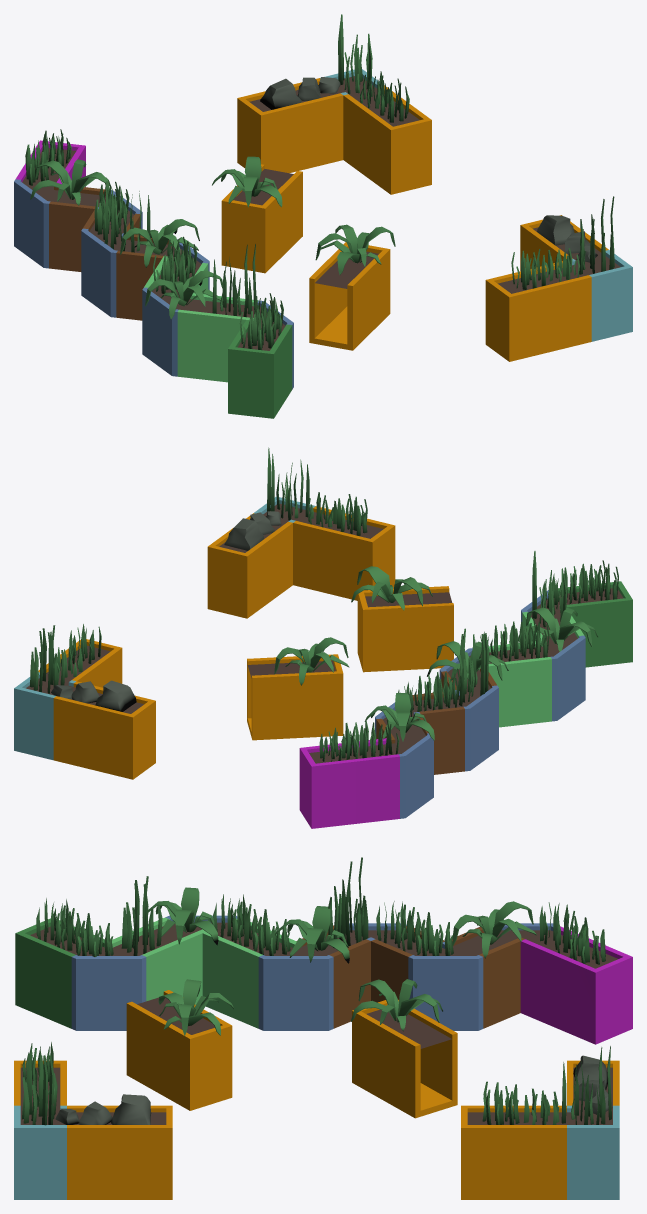
The picture shows the model from 3 angles, top to bottom: view 1: azimuth 30°, elevation 25°; view 2: azimuth 150°, elevation 25°; view 3: azimuth 270°, elevation 25°; orthographic projection. The views are drawn at different scales.
Visible parts, largest first — view 1: SM_414; view 2: SM_414; view 3: SM_414.
Boxes of the visible parts, x1,y1,x2,y2 form: SM_414: (14,14,632,418); SM_414: (14,447,632,828); SM_414: (14,857,632,1199).
Size of the model in its own units: 3.96 by 1.18 by 4.68.
